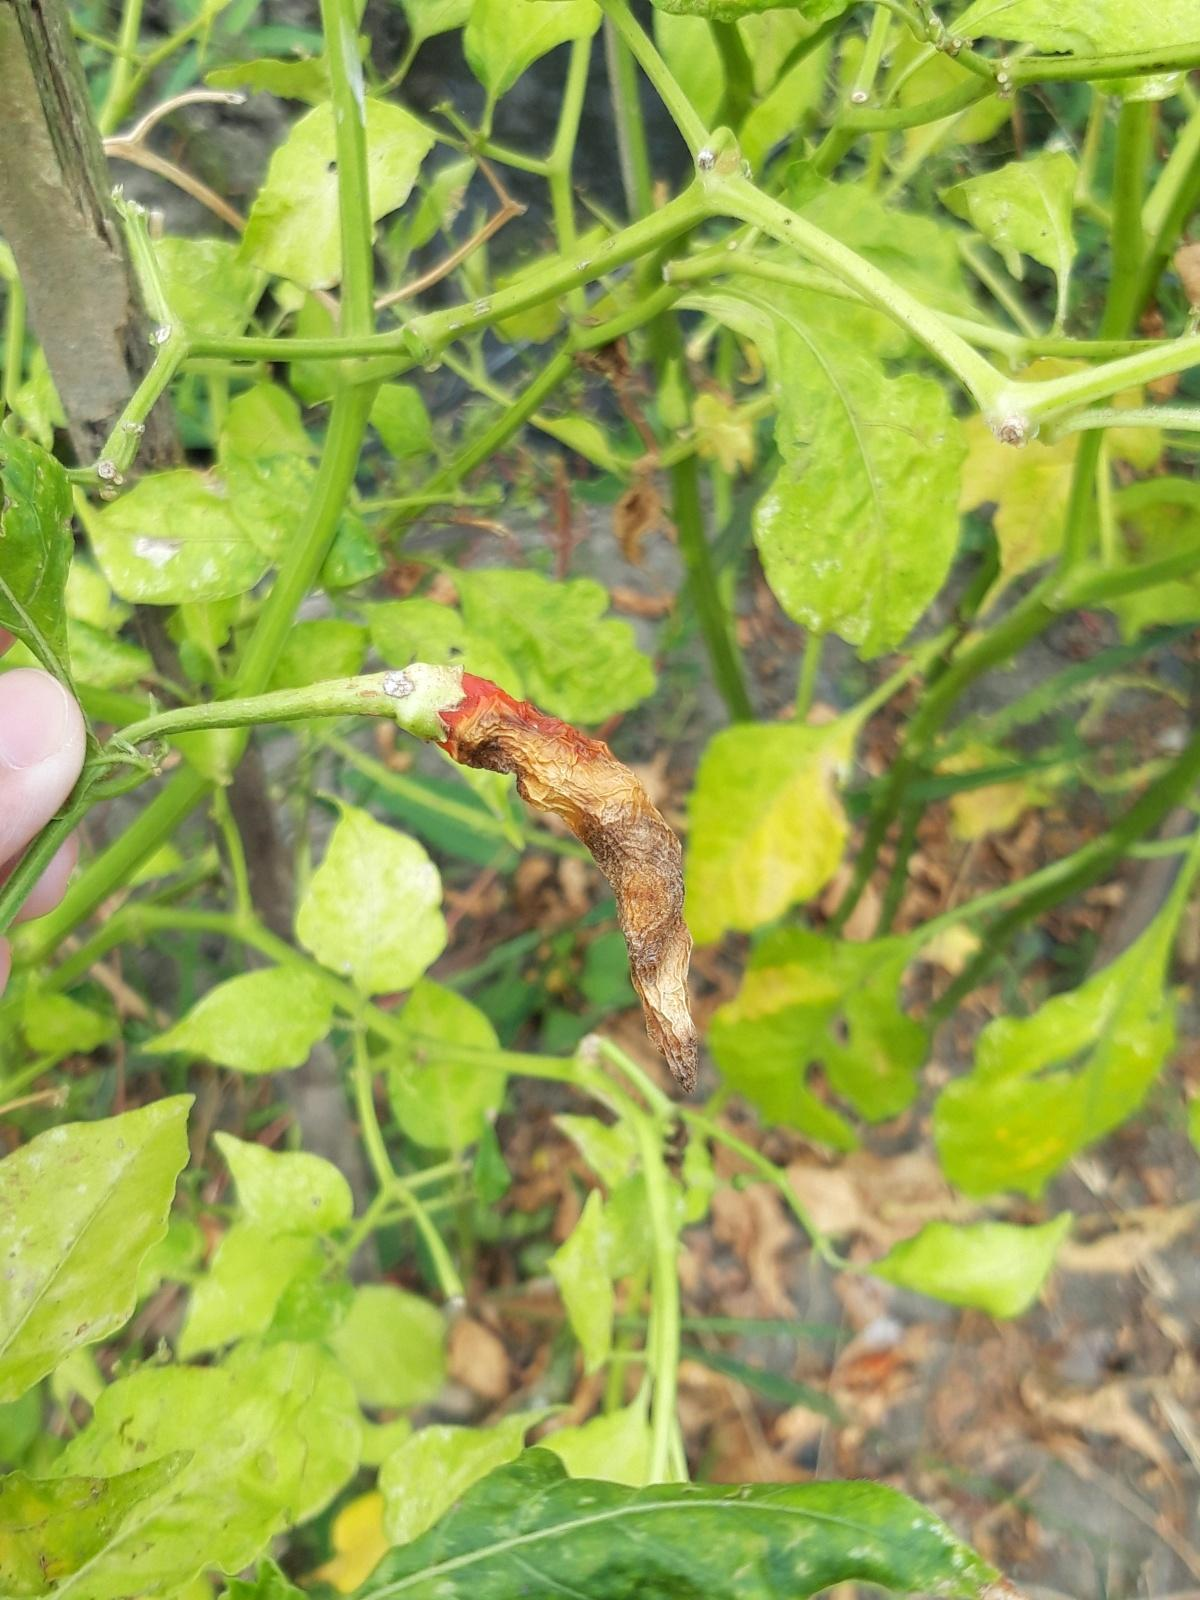antraknosa: (396, 661, 698, 1094)
